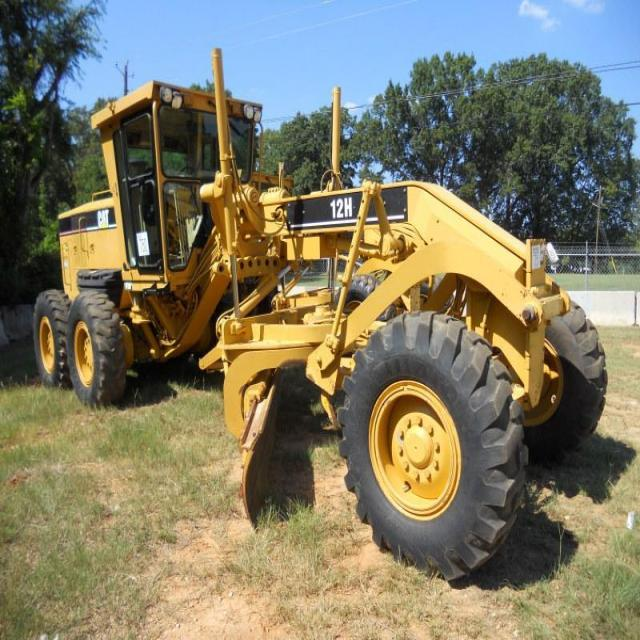buldozerpayloadergrader: (17, 70, 614, 580)
